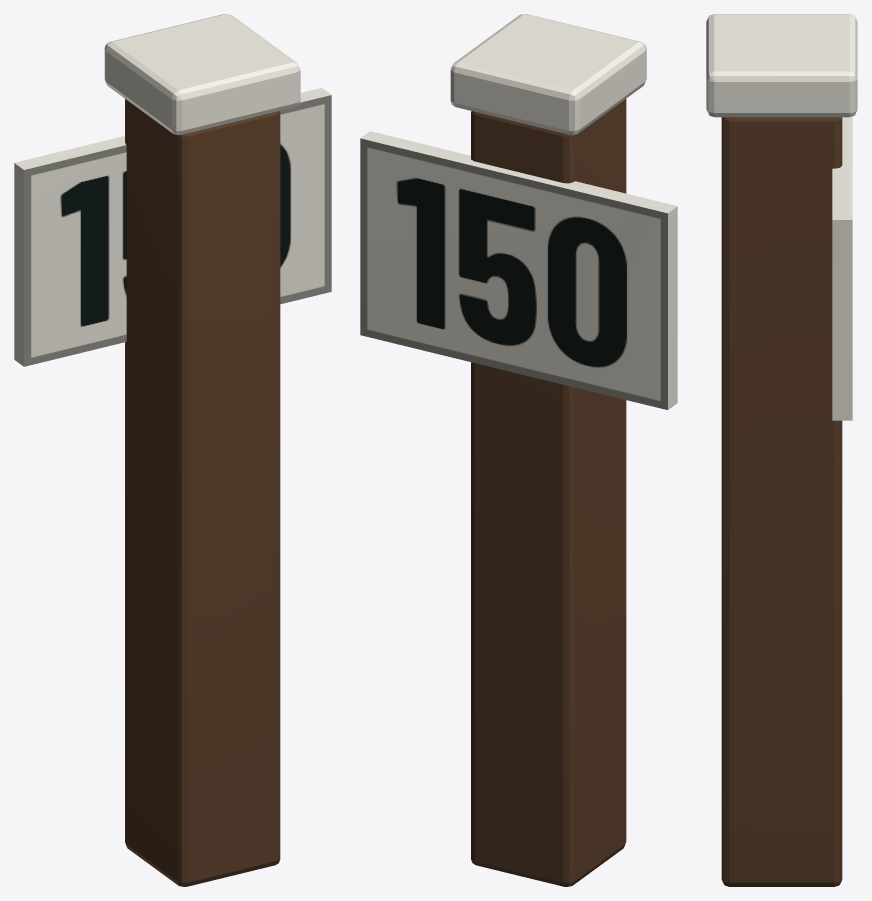
Rendered from yardage_marker_150.glb.
3 renders of one model, left to right at view 1: azimuth 30°, elevation 25°; view 2: azimuth 150°, elevation 25°; view 3: azimuth 270°, elevation 25°, orthographic. The views are drawn at different scales.
Parts seen in each view (by area): view 1: Post, Plate, Cap; view 2: Post, Plate, Cap; view 3: Post, Cap, Plate.
Boxes of the visible parts, left/top/right/bottom form: Post: left=125, top=99, right=280, bottom=886; Plate: left=14, top=88, right=331, bottom=366; Cap: left=104, top=14, right=300, bottom=134; Post: left=471, top=99, right=626, bottom=886; Plate: left=360, top=131, right=677, bottom=409; Cap: left=450, top=14, right=646, bottom=134; Post: left=721, top=117, right=842, bottom=886; Cap: left=706, top=14, right=857, bottom=117; Plate: left=832, top=116, right=852, bottom=420.
Size of the model in its own units: 0.36 by 0.9 by 0.15.
Materials: 2 (2 with a texture image).
